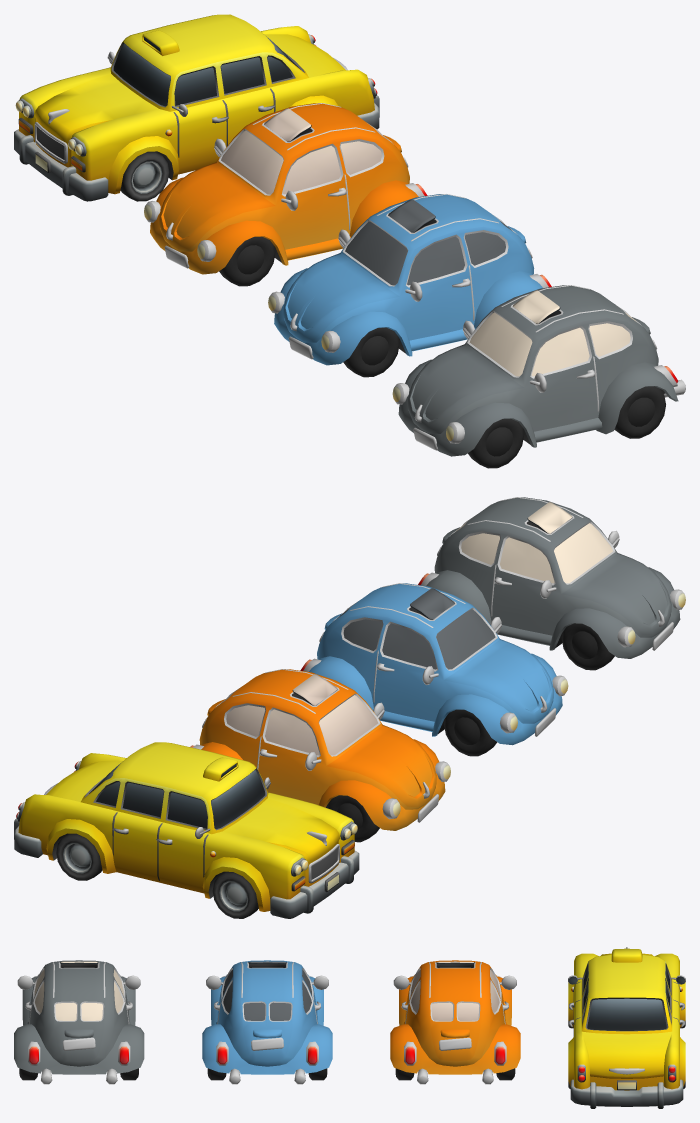
The model's file is Cars.fbx.
3 views of the same model, one above another, from view 1: azimuth 30°, elevation 25°; view 2: azimuth 150°, elevation 25°; view 3: azimuth 270°, elevation 25° (orthographic). The views are drawn at different scales.
Parts seen in each view (by area): view 1: car3, car, car1, car2; view 2: car3, car, car1, car2; view 3: car3, car, car2, car1.
Part boxes in pixels (x1,y1,x2,y2): car3: (14, 14, 379, 201); car: (392, 285, 685, 468); car1: (268, 194, 551, 377); car2: (144, 103, 427, 286); car3: (14, 742, 359, 918); car: (418, 497, 685, 670); car1: (300, 583, 568, 756); car2: (190, 669, 450, 842); car3: (568, 947, 685, 1108); car: (14, 960, 144, 1084); car2: (390, 960, 520, 1084); car1: (202, 960, 332, 1084).
Bounding box in the file's own units: 7.01 × 2.73 × 17.14.
